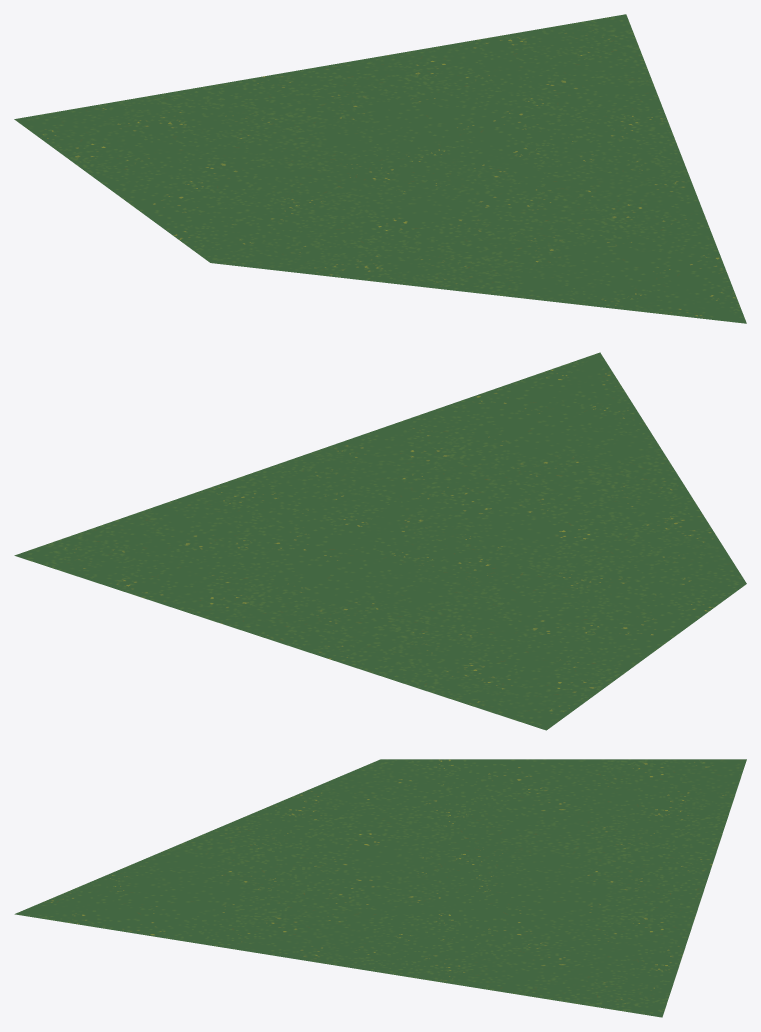
The model's file is QmewSVbUh4rMWFdtLWn2WEB2HZgLFtupu7Pvmtsq87mBHK_lod2.fbx.
3 views of the same model, one above another, from view 1: azimuth 30°, elevation 25°; view 2: azimuth 150°, elevation 25°; view 3: azimuth 270°, elevation 25° (orthographic). The views are drawn at different scales.
Visible parts, largest first — view 1: Entity_512; view 2: Entity_512; view 3: Entity_512.
Part boxes in pixels (left/top/right/bottom): Entity_512: left=14, top=14, right=746, bottom=323; Entity_512: left=14, top=352, right=746, bottom=730; Entity_512: left=14, top=759, right=746, bottom=1017.
Size of the model in its own units: 13333 by 19.09 by 16000.
Materials: 1 (1 with a texture image).
